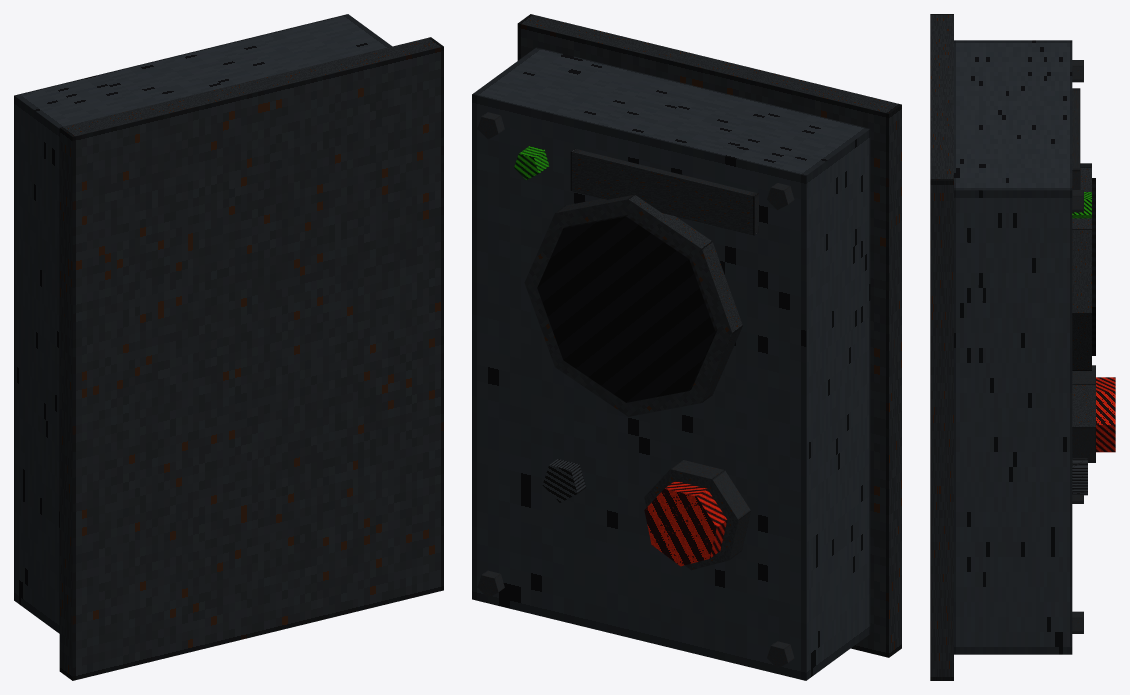
File: speaker_intercom.glb
The picture shows the model from 3 angles, left to right: view 1: azimuth 30°, elevation 25°; view 2: azimuth 150°, elevation 25°; view 3: azimuth 270°, elevation 25°; orthographic projection. The views are drawn at different scales.
Parts seen in each view (by area): view 1: speaker_intercom; view 2: speaker_intercom; view 3: speaker_intercom.
Boxes of the visible parts, bbox=[...] form: speaker_intercom: bbox=[14, 14, 443, 680]; speaker_intercom: bbox=[472, 14, 901, 680]; speaker_intercom: bbox=[930, 14, 1115, 680].
Bounding box in the file's own units: 0.2 × 0.28 × 0.094.
Materials: 1 (1 with a texture image).
